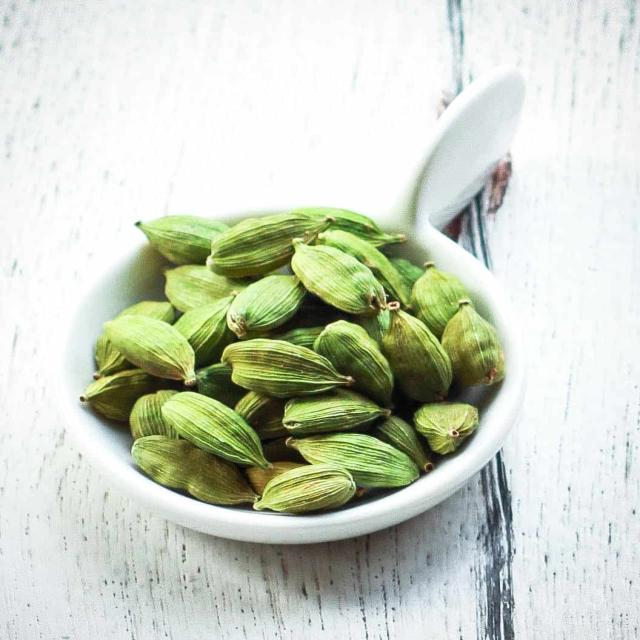Cardamom: (81, 202, 507, 513)
